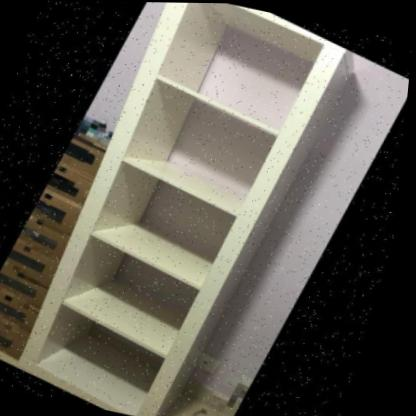Shelf: (0, 0, 383, 416)
